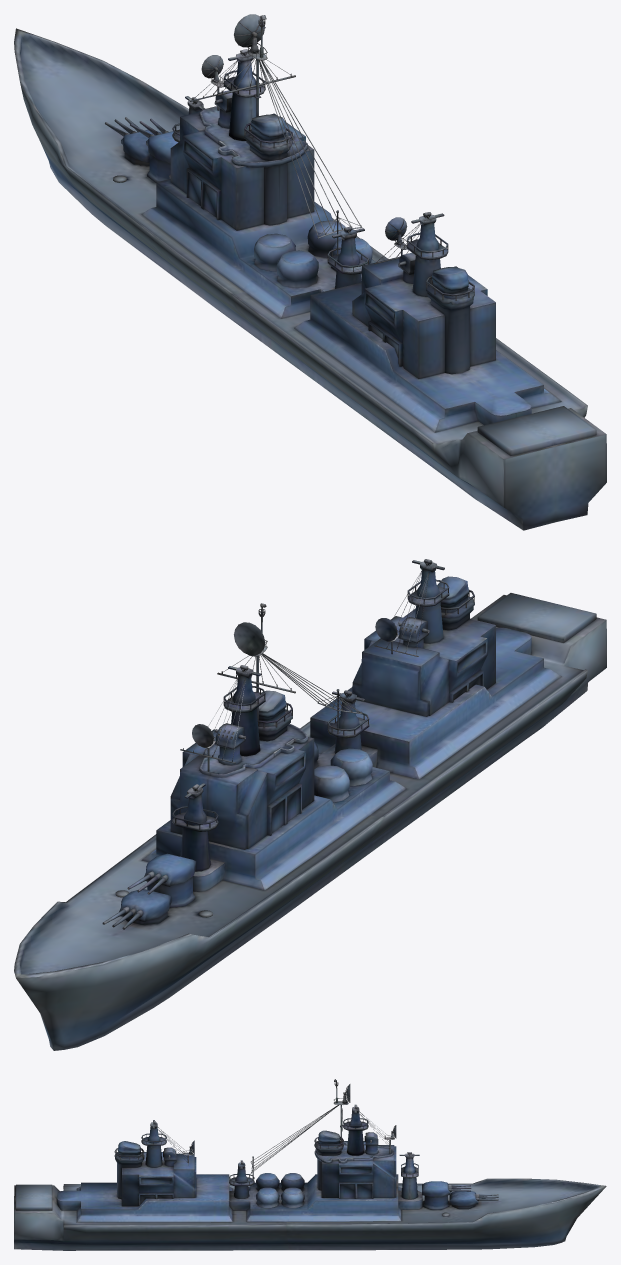
File: AEGIS Cruiser.glb
3 views of the same model, one above another, from view 1: azimuth 30°, elevation 25°; view 2: azimuth 150°, elevation 25°; view 3: azimuth 270°, elevation 25° (orthographic). The views are drawn at different scales.
Parts seen in each view (by area): view 1: Plane.002; view 2: Plane.002; view 3: Plane.002.
Boxes of the visible parts, <box> form: Plane.002: <box>14,14,606,530</box>; Plane.002: <box>14,559,606,1050</box>; Plane.002: <box>14,1079,606,1250</box>.
Bounding box in the file's own units: 4.05 × 7.33 × 24.31.
Materials: 1 (1 with a texture image).
